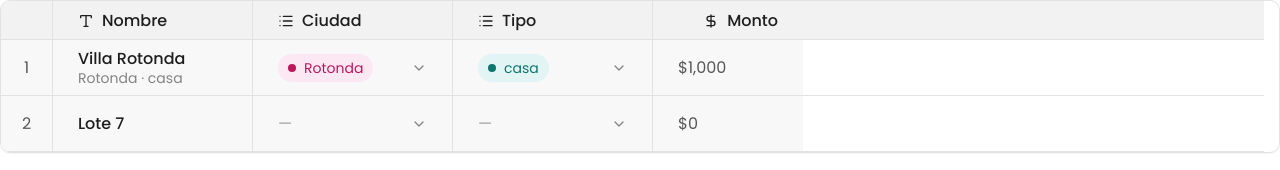
editing a two-line cell › commits the new name like any other cell
Double-click the text "Villa Rotonda" at (138, 58), box [78,48,199,68]
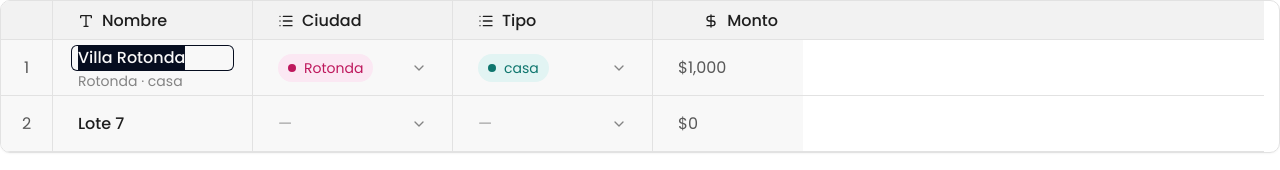
Replace the text in the field showing "Villa Rotonda" with "Villa Norte". click: (152, 58)
box: [72,46,233,70]
Then press Enter
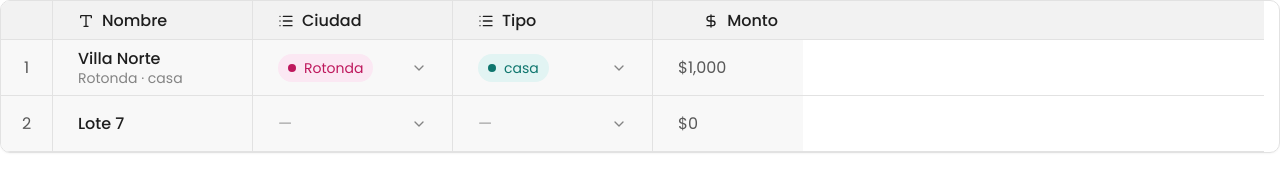
Expected: the text "Rotonda · casa" is shown, [78,68,199,86]
Expected: the text "Villa Norte" is shown, [78,46,160,70]
